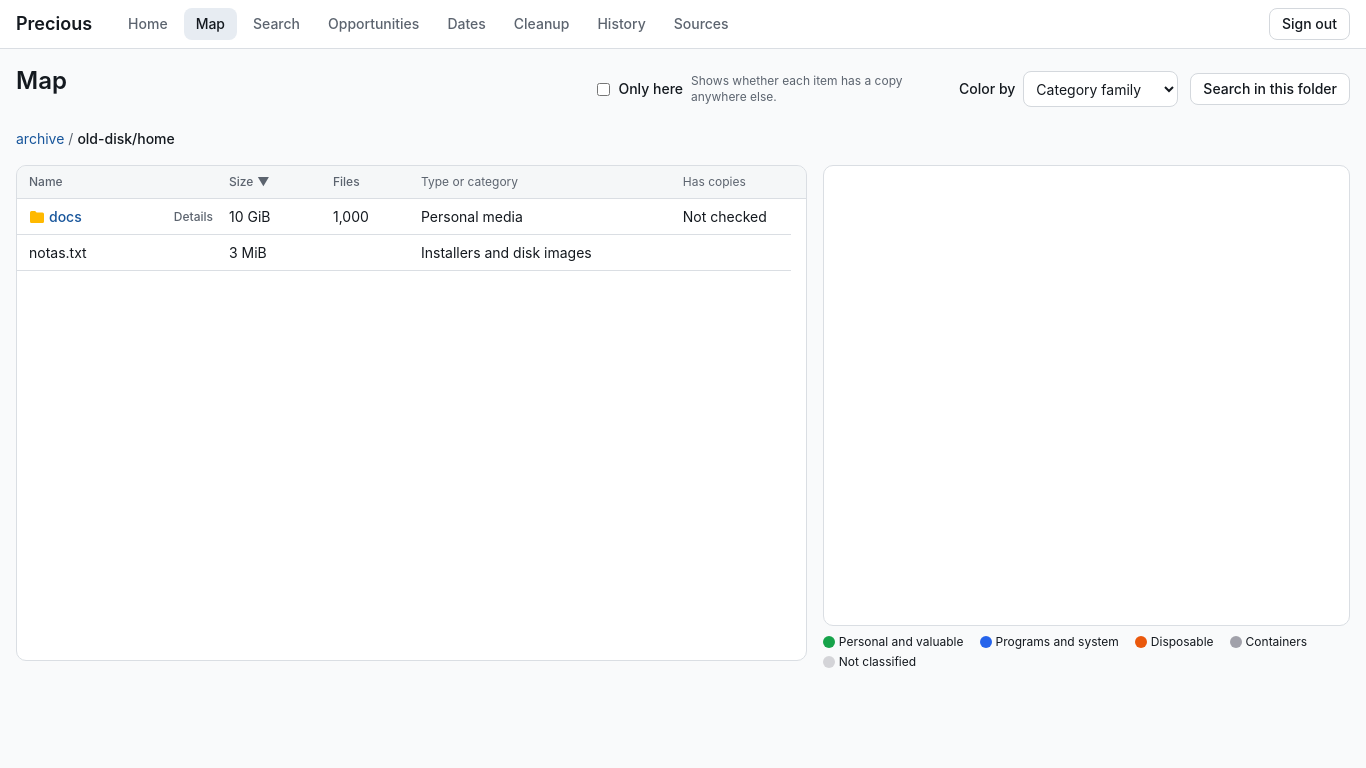
Test: Map start › opens the remembered source on the folder below its chain of single folders
Check: the table named "Contents of home" is shown, box [16,165,807,661]
Note: Below the chain, the chain stays one step that opens its deepest.
Click the link "docs".
click(65, 216)  # box [49,208,82,224]
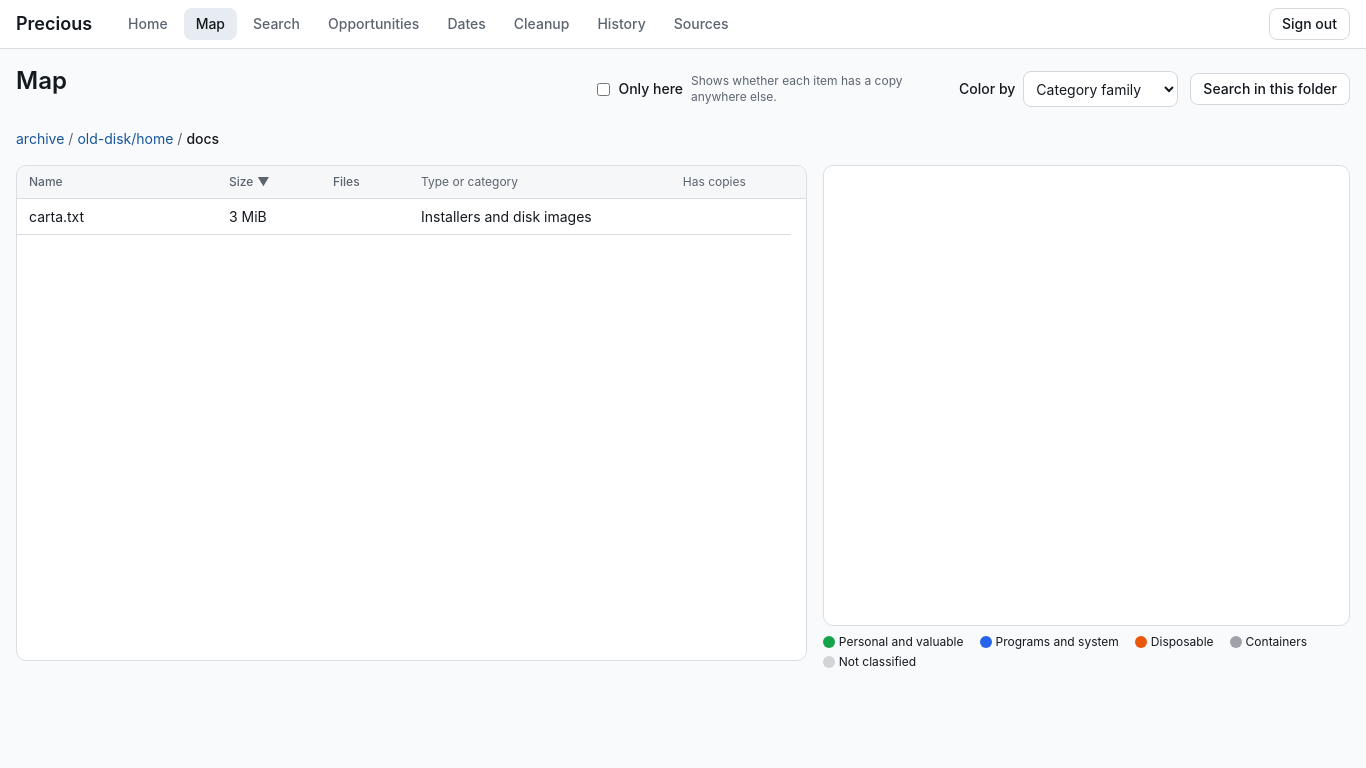
Check: the table named "Contents of docs" is shown, box [16,165,807,661]
